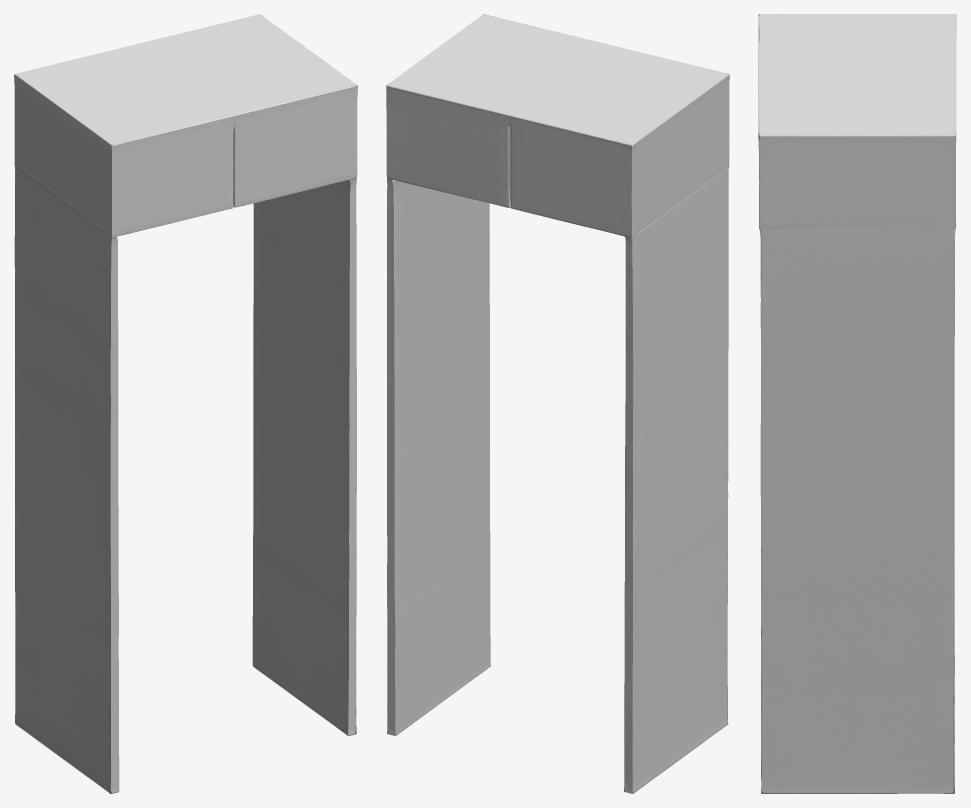
The picture shows the model from 3 angles, left to right: view 1: azimuth 30°, elevation 25°; view 2: azimuth 150°, elevation 25°; view 3: azimuth 270°, elevation 25°; orthographic projection.
Parts seen in each view (by area): view 1: world; view 2: world; view 3: world.
Boxes of the visible parts, x1,y1,x2,y2 form: world: (14,14,357,793); world: (386,14,729,793); world: (758,14,956,793).
Size of the model in its own units: 0.3972 by 1 by 0.2729.
Materials: 1 (1 with a texture image).
